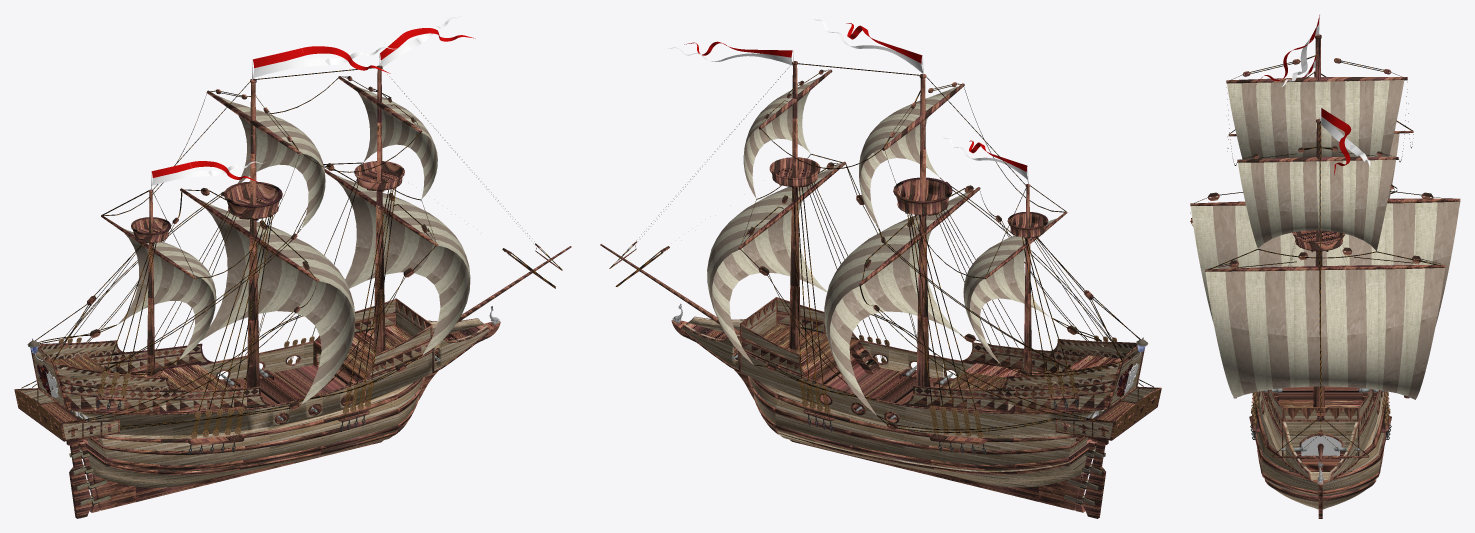
Rendered from anno_1401_-_explorer_ship_d.glb.
3 renders of one model, left to right at view 1: azimuth 30°, elevation 25°; view 2: azimuth 150°, elevation 25°; view 3: azimuth 270°, elevation 25°, orthographic. The views are drawn at different scales.
Parts seen in each view (by area): view 1: G-__576417_298, G-__573924_53, G-__573816_42, G-__574743_138, G-__576723_329, G-__576507_308, G-__573951_56, G-__573933_54, G-__574770_141, G-__574752_139, G-__573843_45, G-__573672_26 (+18 smaller); view 2: G-__576507_308, G-__573753_35, G-__573924_53, G-__576417_298, G-__574743_138, G-__573951_56, G-__576723_329, G-__573933_54, G-__574770_141, G-__573780_38, G-__573672_26, G-__574752_139 (+18 smaller); view 3: G-__574743_138, G-__573933_54, G-__573924_53, G-__574752_139, G-__576588_317, G-__576417_298, G-__574770_141, G-__573726_32, G-__573789_39, G-__574779_142, Banderin.001_413, Sketchup_0 (+14 smaller).
Part boxes in pixels (<box>): G-__576417_298: <box>61,322,500,474</box>; G-__573924_53: <box>201,200,355,404</box>; G-__573816_42: <box>94,391,397,487</box>; G-__574743_138: <box>334,174,470,354</box>; G-__576723_329: <box>117,229,216,359</box>; G-__576507_308: <box>89,299,395,380</box>; G-__573951_56: <box>224,78,282,387</box>; G-__573933_54: <box>216,95,325,228</box>; G-__574770_141: <box>354,65,404,352</box>; G-__574752_139: <box>354,85,437,199</box>; G-__573843_45: <box>105,425,397,475</box>; G-__573672_26: <box>14,388,119,441</box>; G-__576507_308: <box>741,326,1113,434</box>; G-__573753_35: <box>775,391,1080,487</box>; G-__573924_53: <box>824,190,973,414</box>; G-__576417_298: <box>671,297,1108,473</box>; G-__574743_138: <box>707,164,840,364</box>; G-__573951_56: <box>893,74,952,386</box>; G-__576723_329: <box>963,218,1056,364</box>; G-__573933_54: <box>859,86,957,227</box>; G-__574770_141: <box>769,61,820,349</box>; G-__573780_38: <box>775,425,1069,474</box>; G-__573672_26: <box>1055,386,1161,440</box>; G-__574752_139: <box>743,72,831,198</box>; G-__574743_138: <box>1205,267,1444,399</box>; G-__573933_54: <box>1227,79,1404,159</box>; G-__573924_53: <box>1190,201,1459,325</box>; G-__574752_139: <box>1238,159,1395,250</box>; G-__576588_317: <box>1283,407,1359,447</box>; G-__576417_298: <box>1259,386,1378,483</box>; G-__574770_141: <box>1292,119,1345,407</box>; G-__573726_32: <box>1322,440,1379,509</box>; G-__573789_39: <box>1261,440,1318,509</box>; G-__574779_142: <box>1205,265,1445,271</box>; Banderin.001_413: <box>1320,108,1370,175</box>; Sketchup_0: <box>1301,435,1341,480</box>.
Bounding box in the file's own units: 32.96 × 24.28 × 13.4.
21 materials, 16 textured.
